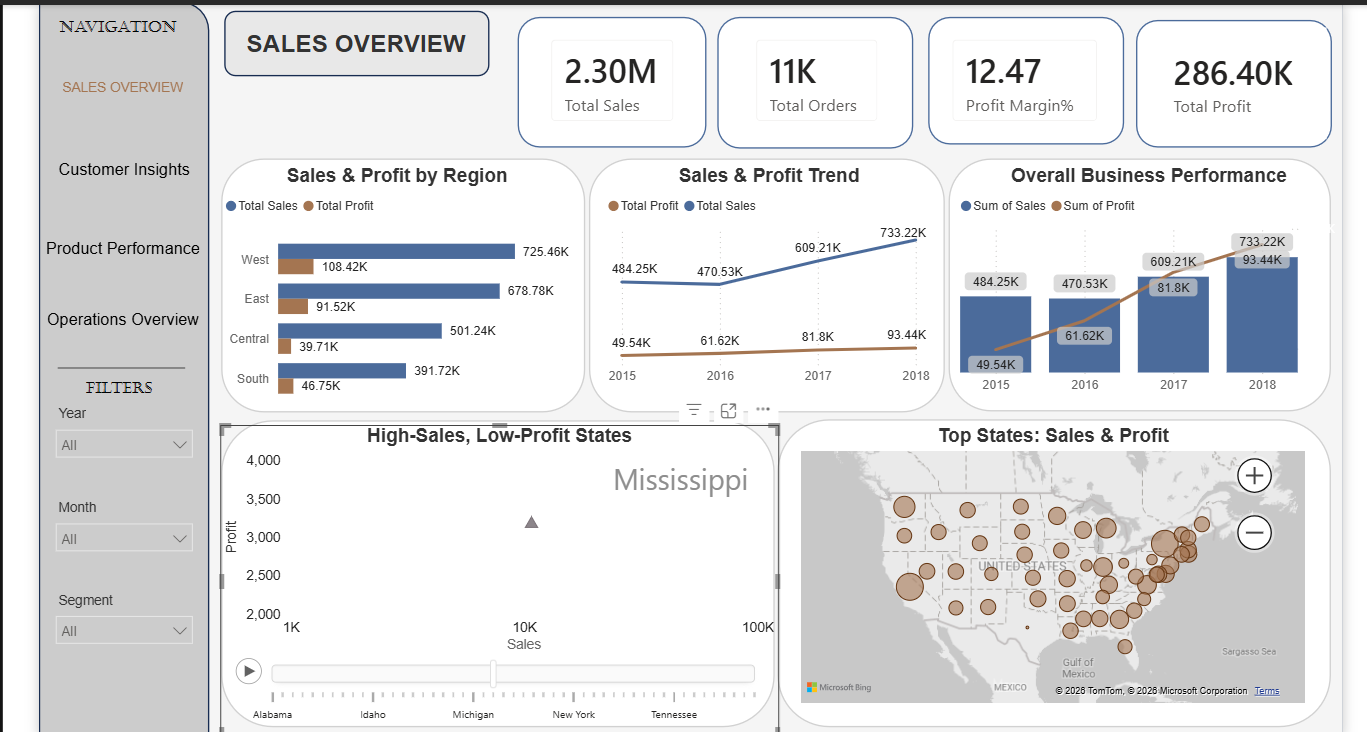

Layout of this report page (visuals, bound fields, positions):
{"tool":"powerbi","page":{"name":"SALES","canvas":[1280,720],"ordinal":0},"visuals":[{"type":"cardVisual","fields":{"Data":["superstore.Profit Margin%"]},"box":[879.8,17.2,176.7,114.1],"z":0},{"type":"cardVisual","fields":{"Data":["superstore.Total Orders"]},"box":[687.1,17.2,153.4,114.1],"z":1000},{"type":"cardVisual","fields":{"Data":["superstore.Total Profit"]},"box":[1084.7,22.1,179.1,109.2],"z":2000},{"type":"cardVisual","fields":{"Data":["superstore.Total Sales"]},"box":[485.9,17.2,154.6,114.1],"z":3000},{"type":"lineStackedColumnComboChart","title":"Overall Business Performance","fields":{"Category":["superstore.Year"],"Y2":["Sum(superstore.Profit)"],"Y":["Sum(superstore.Sales)"]},"box":[899.4,157.1,380.4,231.9],"z":4000},{"type":"lineChart","title":"Sales & Profit Trend","fields":{"Y":["superstore.Total Profit","superstore.Total Sales"],"Category":["superstore.Year"]},"box":[553.4,157.1,326.4,223.3],"z":5000},{"type":"clusteredBarChart","title":"Sales & Profit by Region","fields":{"Category":["superstore.Region"],"Y":["superstore.Total Sales","superstore.Total Profit"]},"box":[177.9,157.1,347.2,246.6],"z":6000},{"type":"map","title":"Top States: Sales & Profit","fields":{"Category":["superstore.State"],"Size":["Sum(superstore.Profit)"]},"box":[743.6,412.3,504.3,277.3],"z":7000},{"type":"scatterChart","title":"High-Sales, Low-Profit States","fields":{"X":["Sum(superstore.Sales)"],"Y":["superstore.Total Profit"],"Play":["superstore.State"],"Size":["superstore.Total Profit"]},"box":[177.9,412.3,548.5,308],"z":8000},{"type":"slicer","fields":{"Values":["superstore.Year"]},"box":[6.1,389,154.6,65],"z":9000},{"type":"slicer","fields":{"Values":["superstore.Segment"]},"box":[6.1,571.8,154.6,66.3],"z":10000},{"type":"slicer","fields":{"Values":["superstore.Months of Year"]},"box":[6.1,481,154.6,69.9],"z":11000},{"type":"textbox","box":[178.1,16.7,29.2,34.8],"z":12000},{"type":"actionButton","title":"Operations Overview","box":[2.8,288,160,40.3],"z":13000},{"type":"actionButton","title":"Product Performance","box":[2.8,218.4,160,40.3],"z":14000},{"type":"actionButton","title":"Customer Insight","box":[4.2,140.5,160,40.3],"z":15000},{"type":"actionButton","title":"Sales Overview active","box":[0,61.2,164.2,40.3],"z":17000}]}

Visuals, with their boxes on the page's 1280x720 design canvas (x1, y1, x2, y2). These are canvas units, not pixel positions in the 1367x732 screenshot, which may show the page scaled, cropped or inside an application window:
cardVisual - superstore.Profit Margin%: <box>880,17,1056,131</box>
cardVisual - superstore.Total Orders: <box>687,17,840,131</box>
cardVisual - superstore.Total Profit: <box>1085,22,1264,131</box>
cardVisual - superstore.Total Sales: <box>486,17,640,131</box>
"Overall Business Performance" lineStackedColumnComboChart: <box>899,157,1280,389</box>
"Sales & Profit Trend" lineChart: <box>553,157,880,380</box>
"Sales & Profit by Region" clusteredBarChart: <box>178,157,525,404</box>
"Top States: Sales & Profit" map: <box>744,412,1248,690</box>
"High-Sales, Low-Profit States" scatterChart: <box>178,412,726,720</box>
slicer - superstore.Year: <box>6,389,161,454</box>
slicer - superstore.Segment: <box>6,572,161,638</box>
slicer - superstore.Months of Year: <box>6,481,161,551</box>
textbox: <box>178,17,207,52</box>
"Operations Overview" actionButton: <box>3,288,163,328</box>
"Product Performance" actionButton: <box>3,218,163,259</box>
"Customer Insight" actionButton: <box>4,140,164,181</box>
"Sales Overview active" actionButton: <box>0,61,164,102</box>
